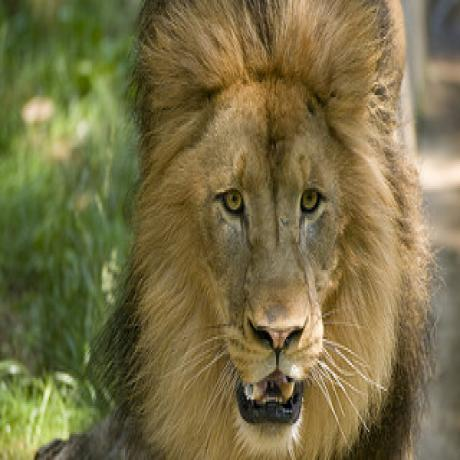Lion: (110, 0, 425, 460)
